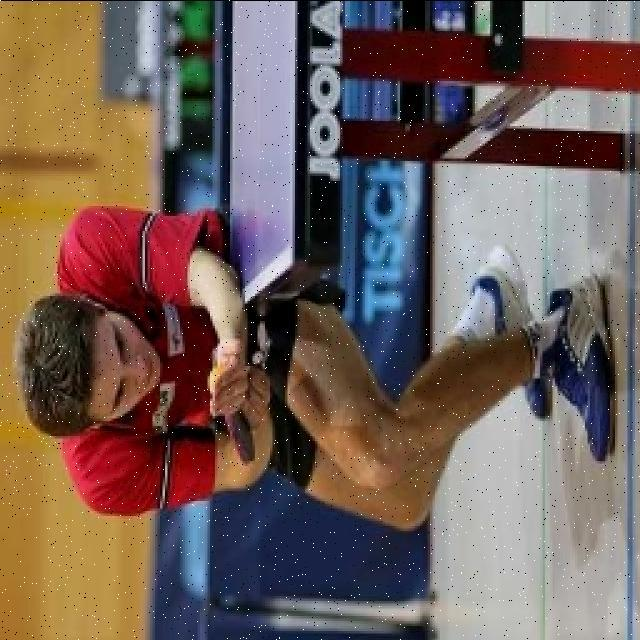ping-pong-ball: (204, 361, 239, 394)
